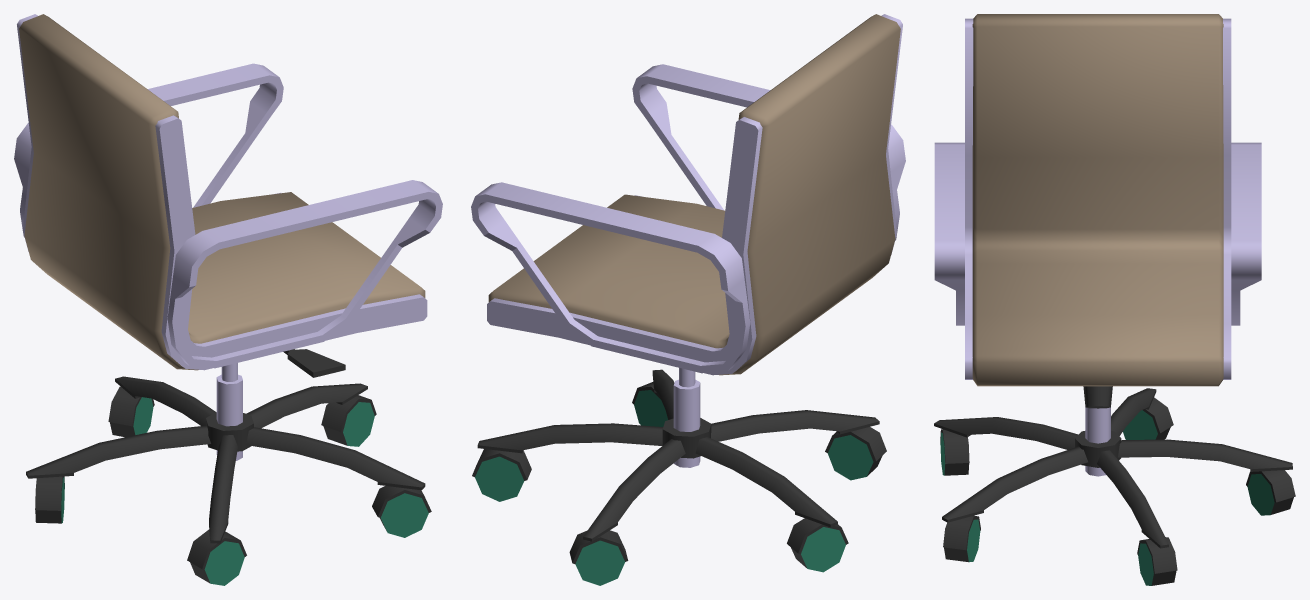
File: office_chair.fbx
3 renders of one model, left to right at view 1: azimuth 30°, elevation 25°; view 2: azimuth 150°, elevation 25°; view 3: azimuth 270°, elevation 25°, orthographic. The views are drawn at different scales.
Visible parts, largest first — view 1: Small wall.005; view 2: Small wall.005; view 3: Small wall.005.
Part boxes in pixels (x1,y1,x2,y2): Small wall.005: [14, 14, 442, 585]; Small wall.005: [471, 14, 905, 585]; Small wall.005: [934, 14, 1295, 585].
Bounding box in the file's own units: 1.12 × 1.5 × 1.18.
